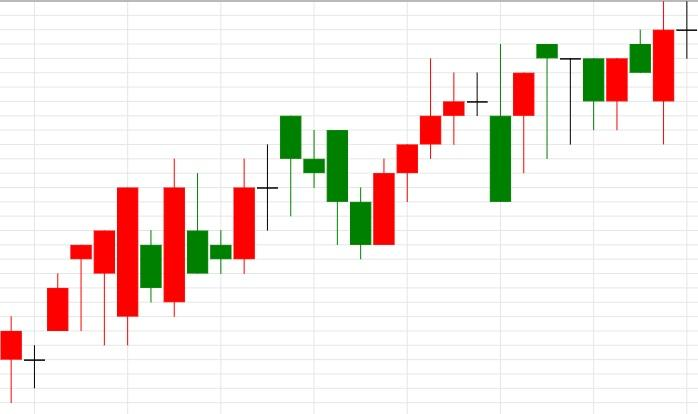hanging_man_fall: (489, 44, 558, 203)
three_white_soldiers_rise: (279, 57, 442, 259)
